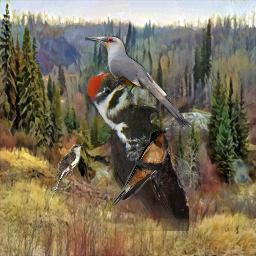Cuckoo: (85, 35, 192, 129), (51, 144, 84, 199)
Swallow: (109, 128, 169, 207)
Woodpecker: (82, 69, 189, 231)
